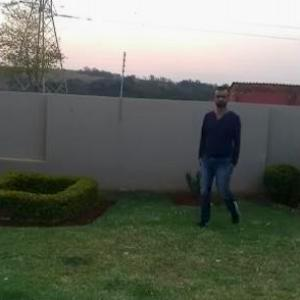follow: (194, 84, 242, 231)
